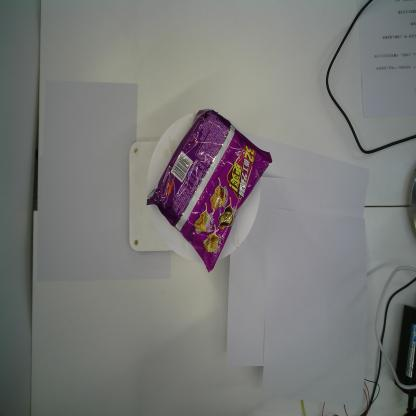Instant Noodles: (146, 107, 273, 274)
